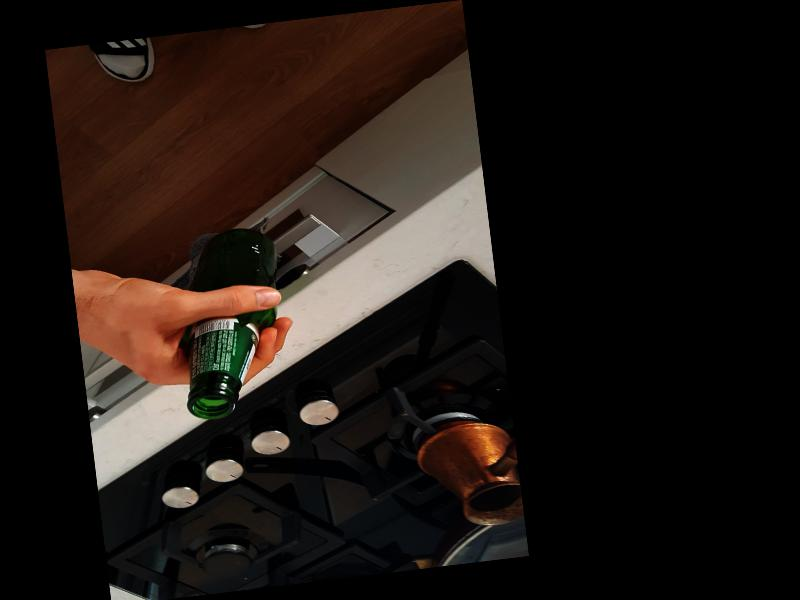Beer: (167, 224, 293, 422)
